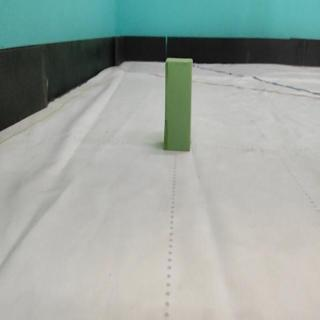greenbox: (163, 55, 194, 152)
